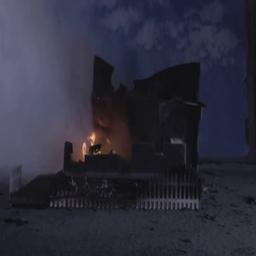fire: (73, 120, 106, 161)
smoke: (0, 0, 94, 123)
